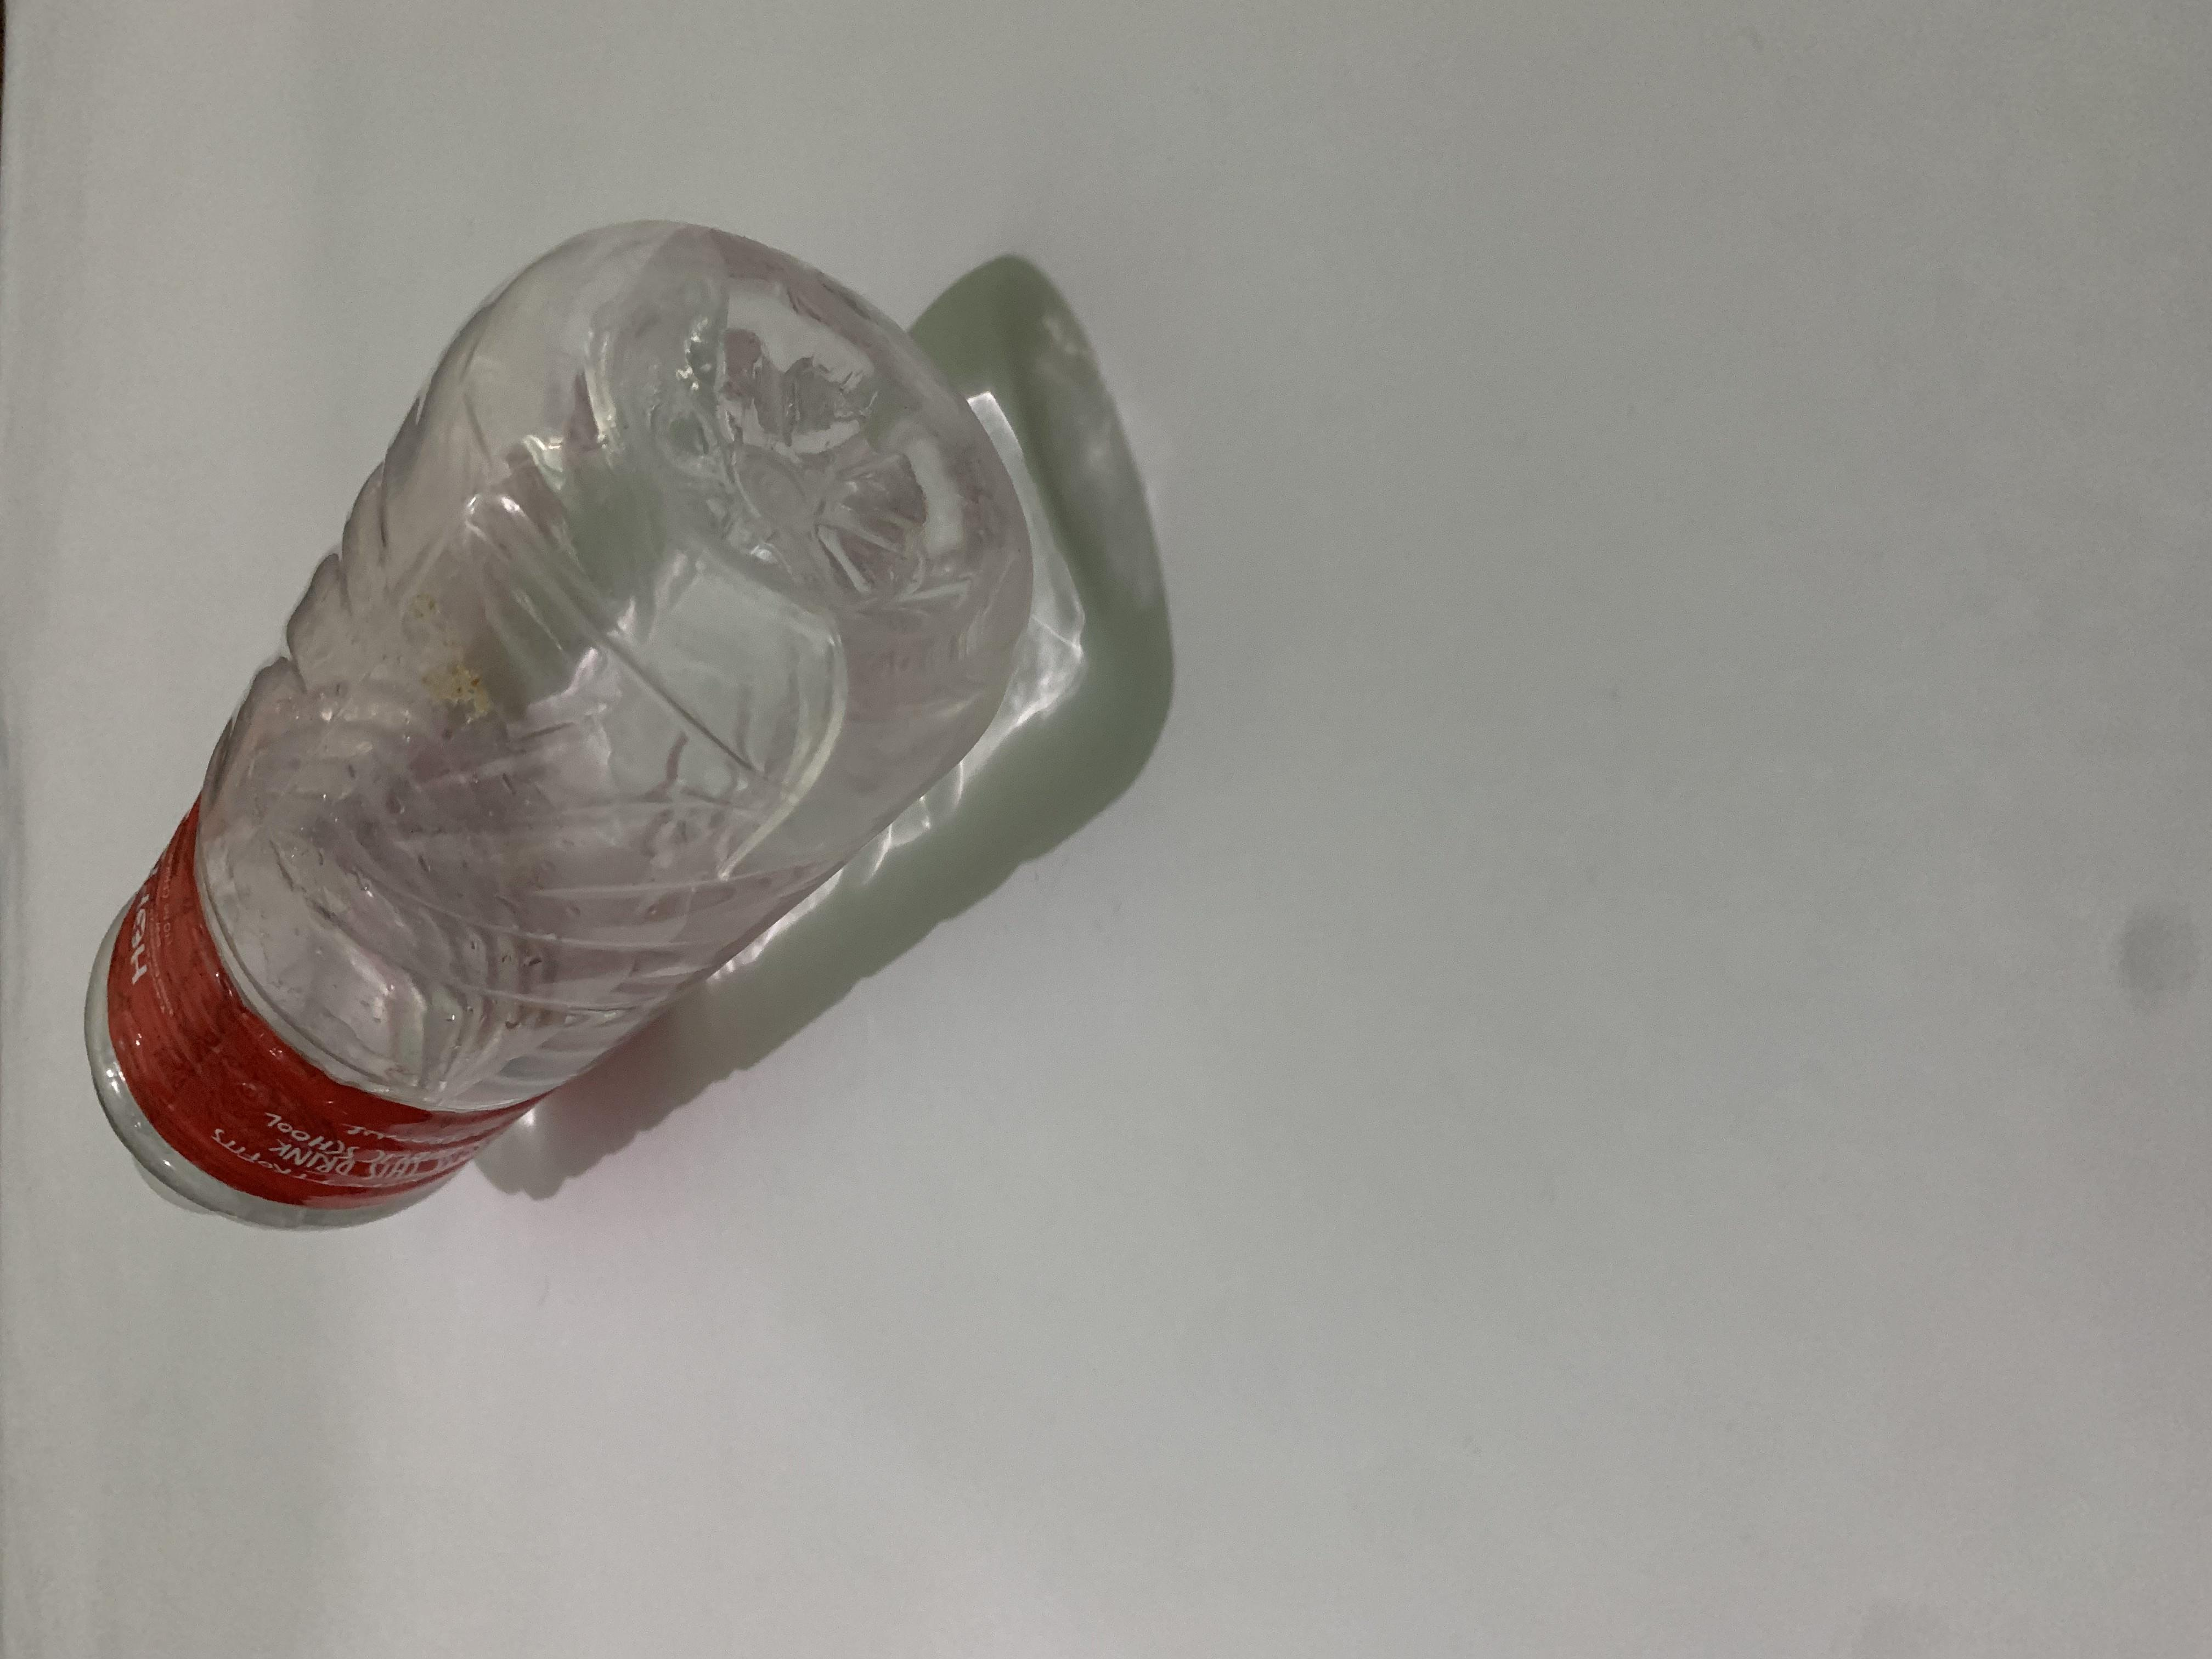bottle: (0, 0, 819, 702)
